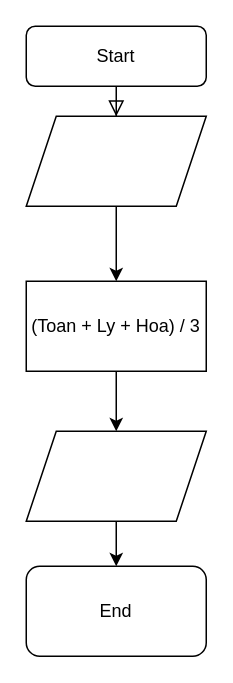
Some shapes in this 233 by 683 pixel diagram are drawn without their labels. Here are the shapes that lost their labels. From the top down, the box of each, then its label:
(25, 115, 206, 206): Input điểm Toán, Lý Hóa
(25, 430, 206, 521): Hiển thị điểm
